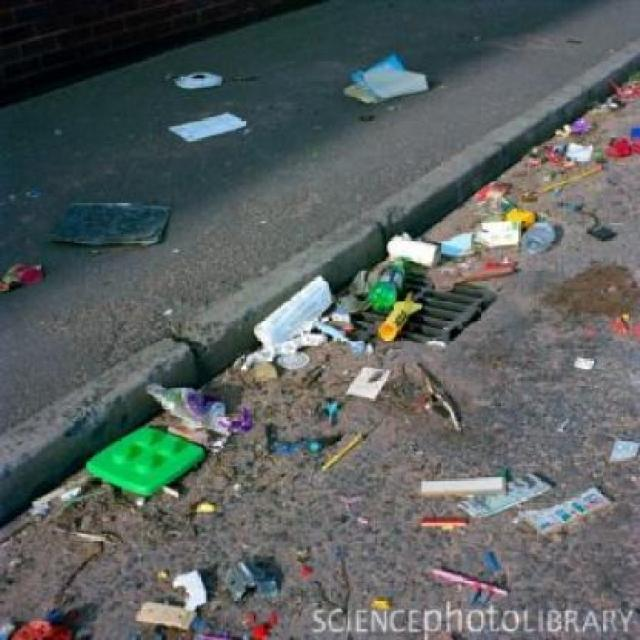garbage: (400, 448, 619, 544), (377, 195, 572, 290), (123, 535, 292, 638), (85, 382, 230, 499), (248, 273, 432, 346), (152, 51, 260, 142), (53, 185, 172, 260), (332, 46, 433, 99)
